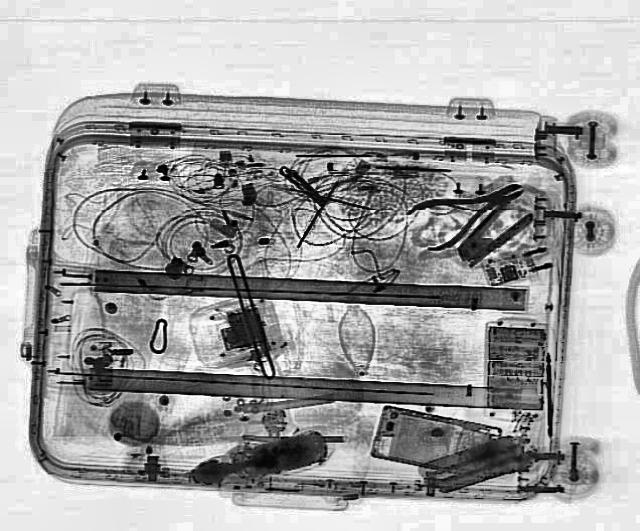Pliers: (399, 167, 538, 253)
